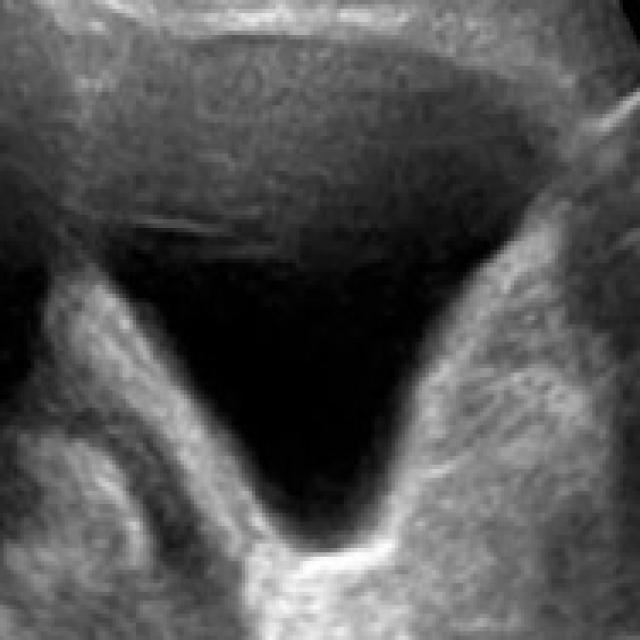bladder: (77, 27, 566, 612)
